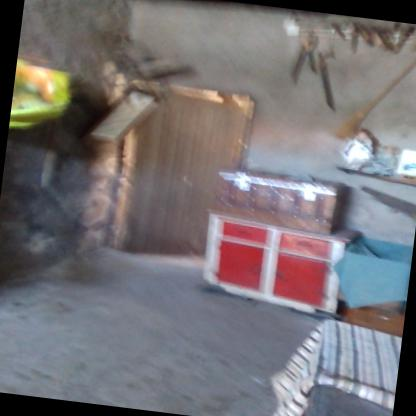semi: (99, 69, 263, 270)
